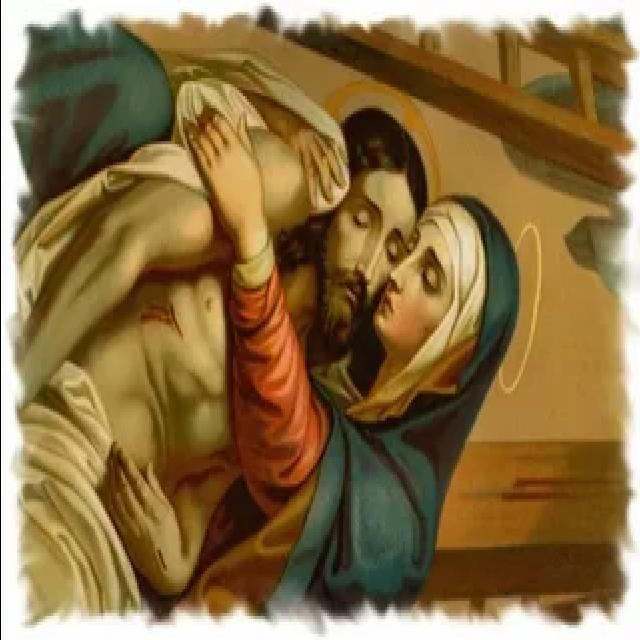mother of god: (226, 196, 520, 640)
